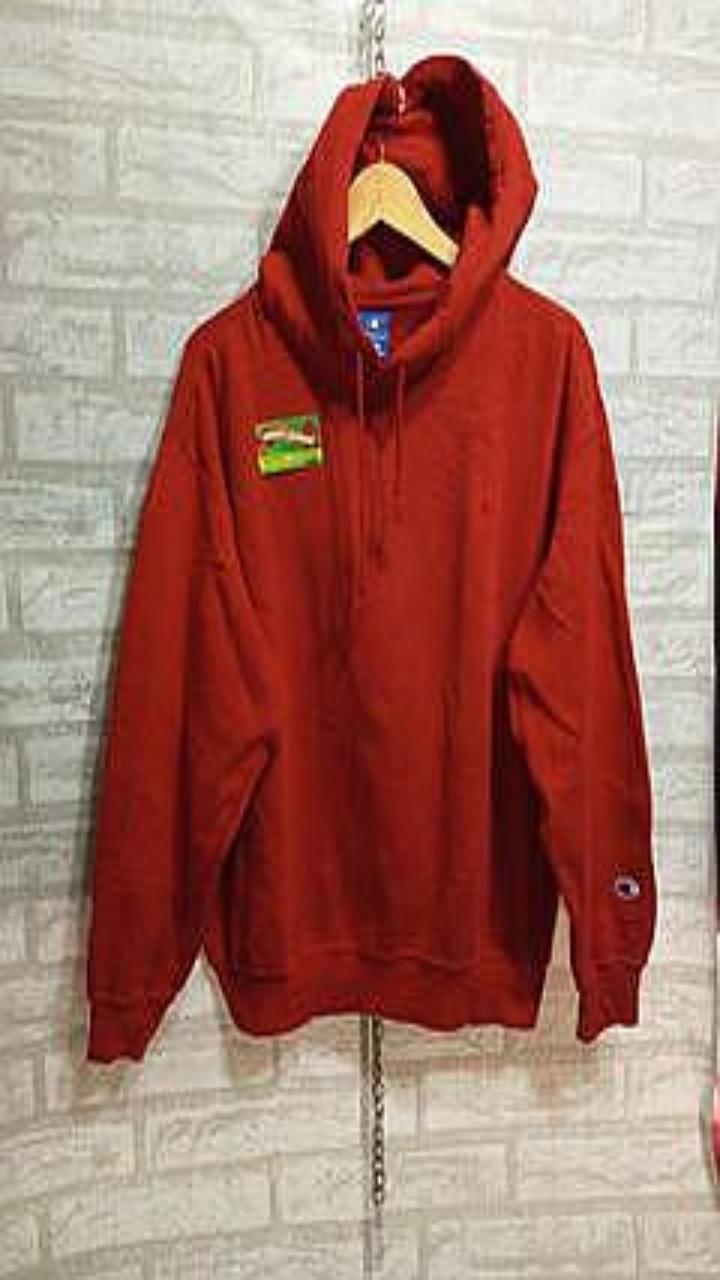Hoodie: (87, 55, 655, 1061)
